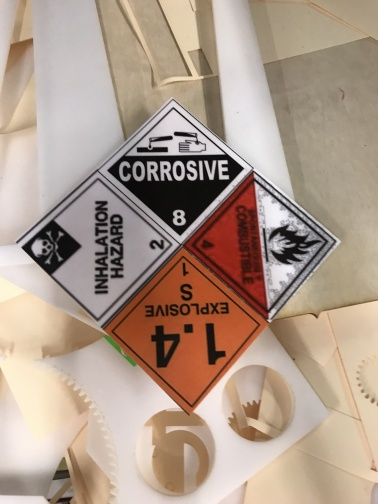Corrosive: (100, 99, 254, 245)
Explosive: (104, 250, 269, 414)
InhalationHazard: (17, 173, 180, 329)
SpontaneouslyCombustible: (182, 171, 337, 323)
